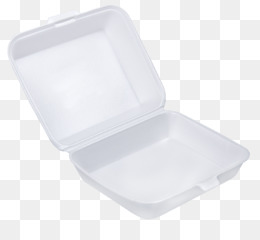Foam Box: (6, 3, 253, 221)
